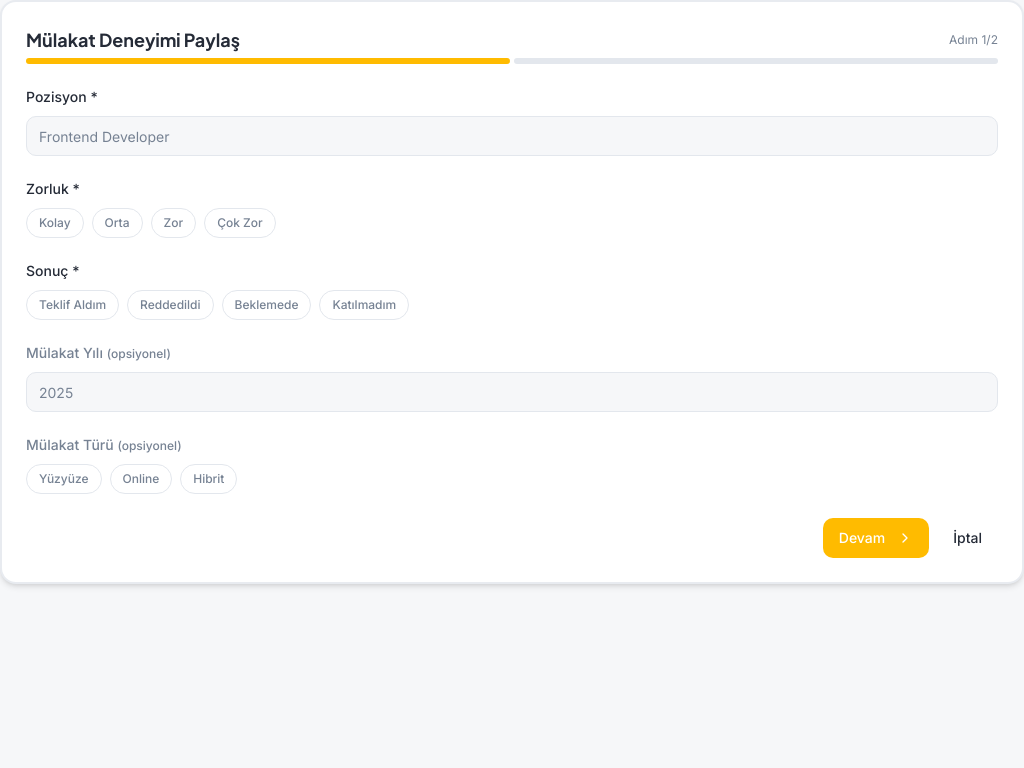
Test case: InterviewForm › hides offered salary when result is not 'Teklif Aldım'
Type "Backend Dev" into the field with placeholder "Frontend Developer".
click(512, 136); type("Backend Dev")  # box [26,116,998,156]
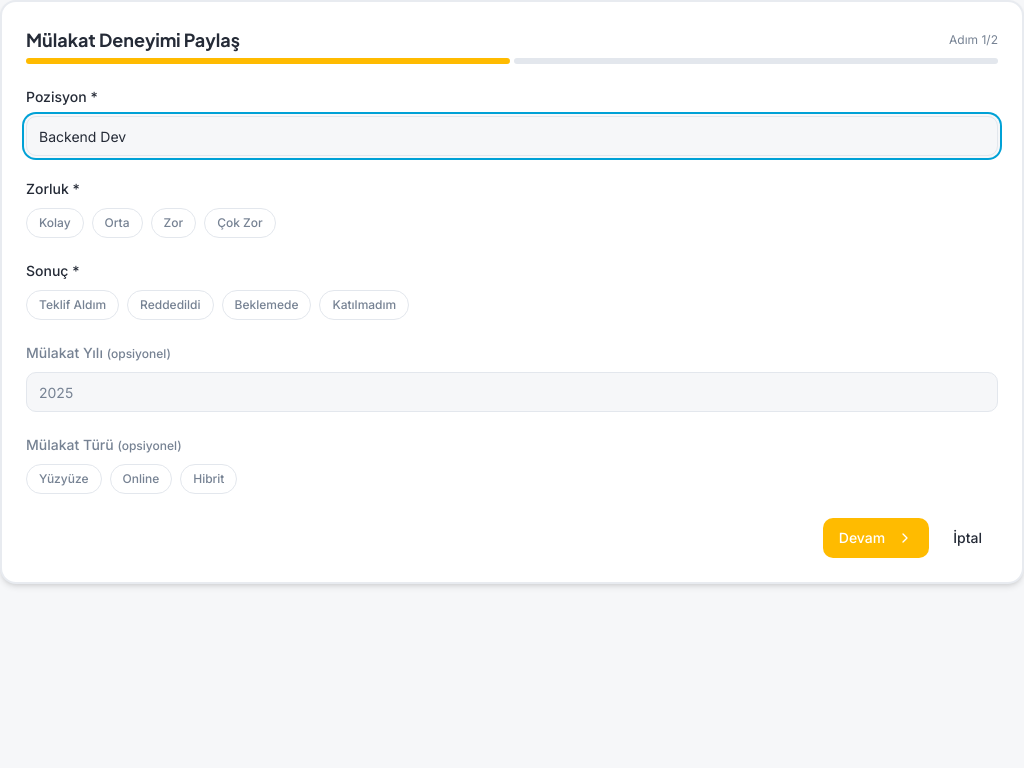
Click the button "Orta".
click(117, 223)  # box [92,208,143,238]
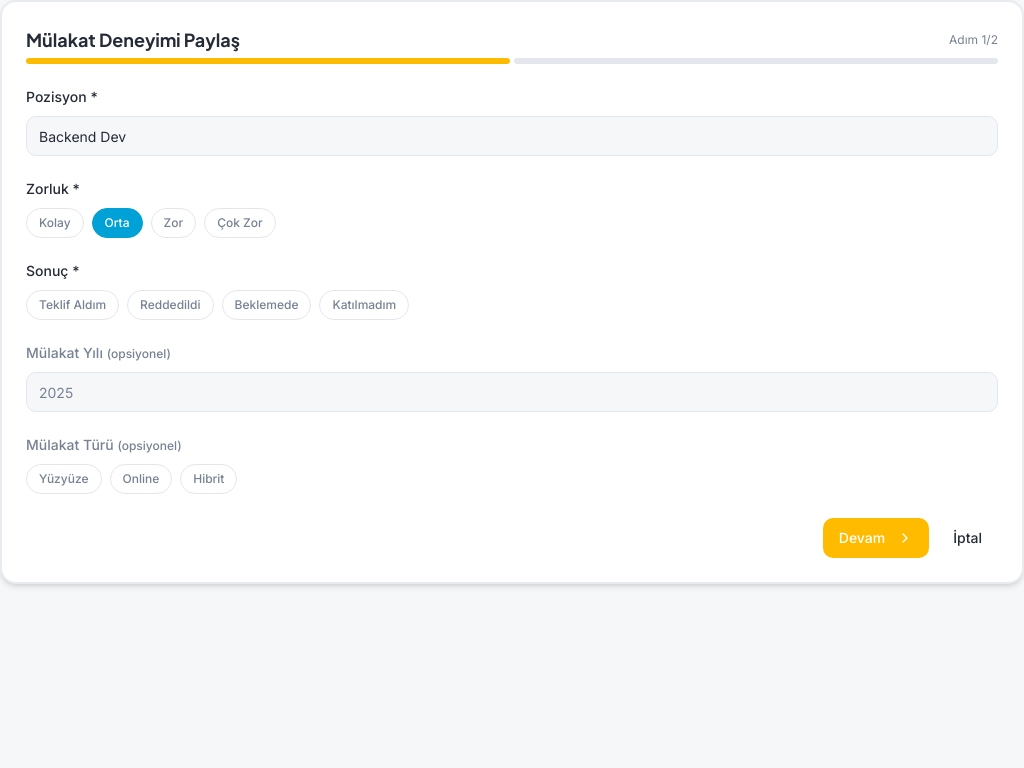
Click the button "Reddedildi".
click(170, 305)  # box [127,290,214,320]
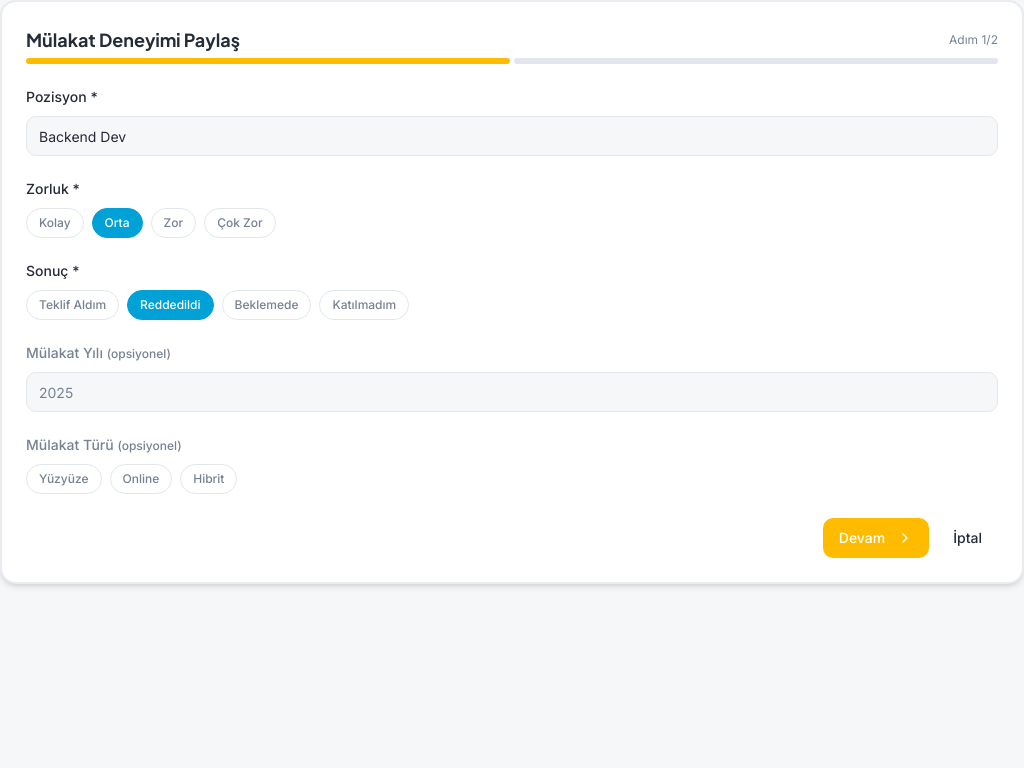
Click the button "Devam".
click(876, 538)  # box [823,518,929,558]
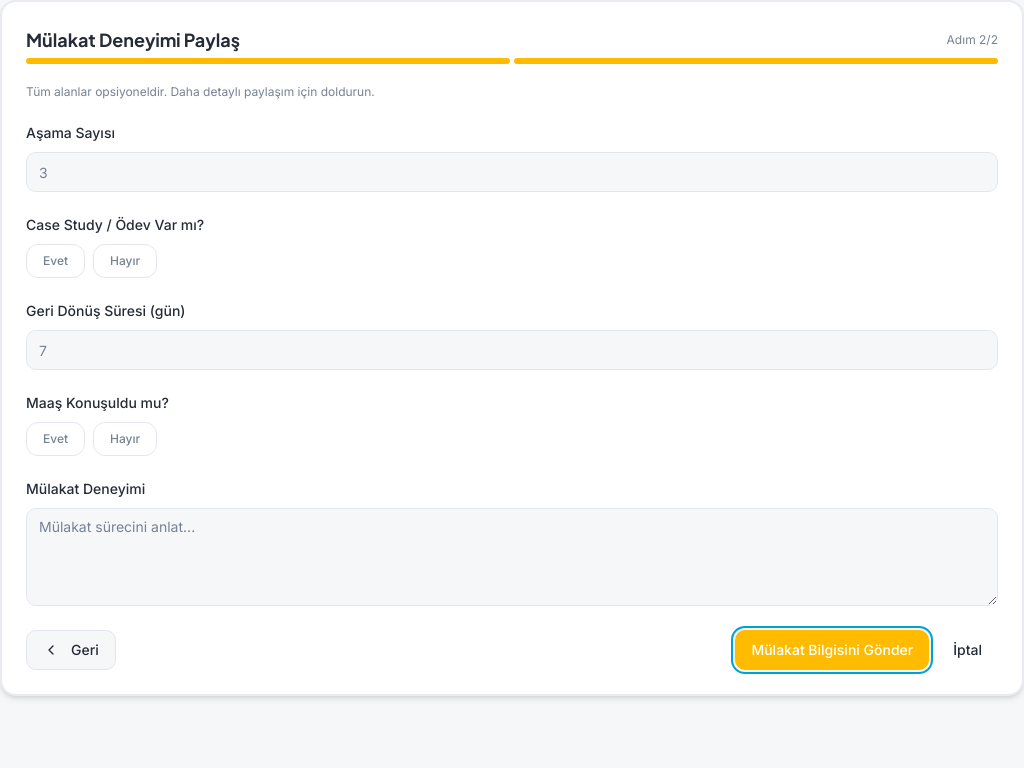
Now the text "Adım 2/2" is shown, box [947,32,998,48]
